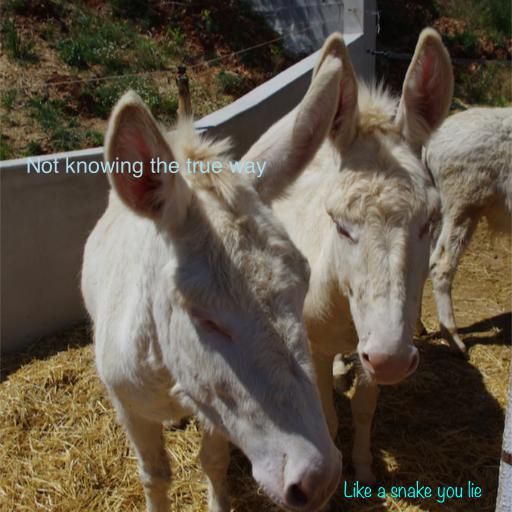Apple Chancery: (25, 157, 267, 178)
Noteworthy: (344, 480, 482, 503)
